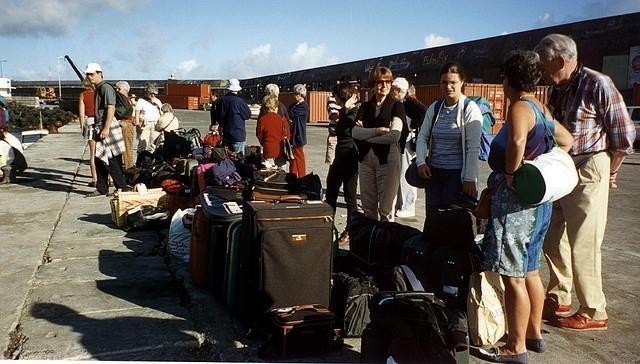car: (626, 106, 640, 150)
